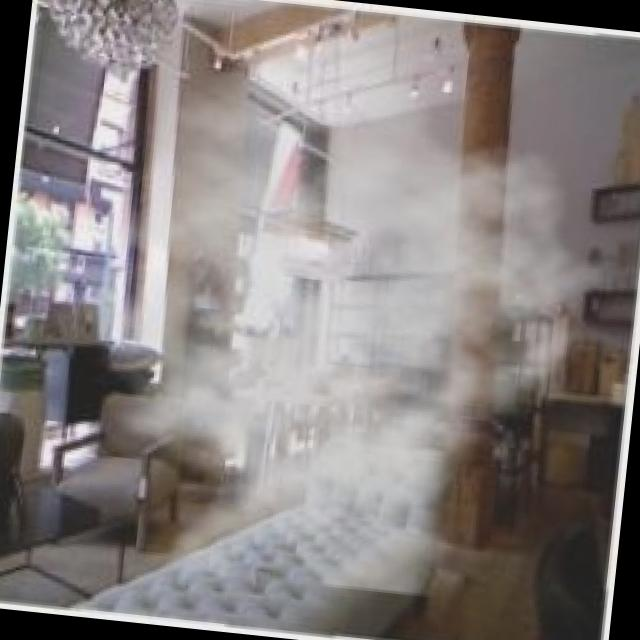smoke: (175, 157, 592, 545)
